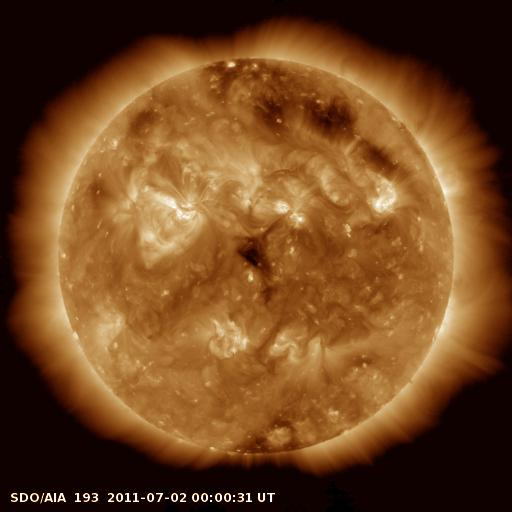coronal_hole: (255, 91, 369, 141), (224, 227, 275, 273)
